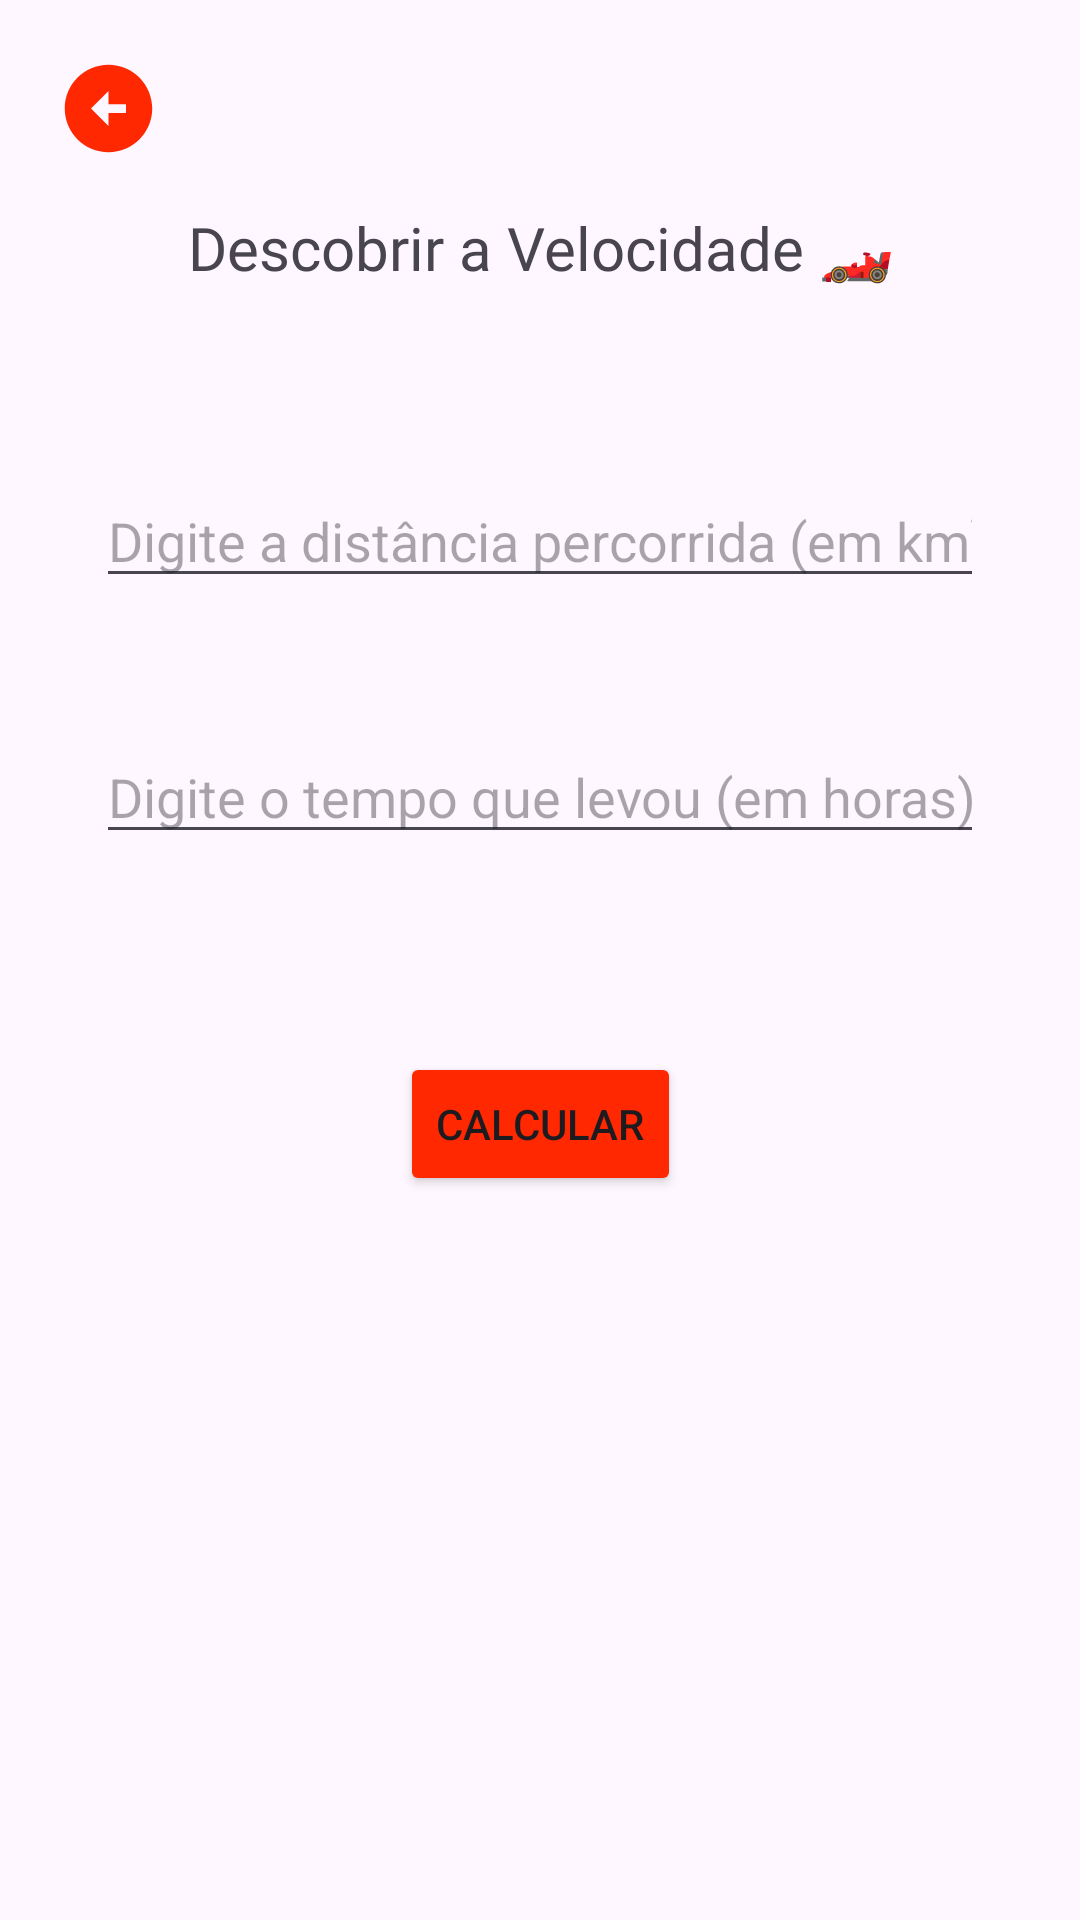

Locate icon controls on the screen. Image size 1080 x 1920, boxes as {"left": x1, "top": y1, "right": x2, "bottom": y2}.
Voltar: {"left": 64, "top": 64, "right": 153, "bottom": 153}
